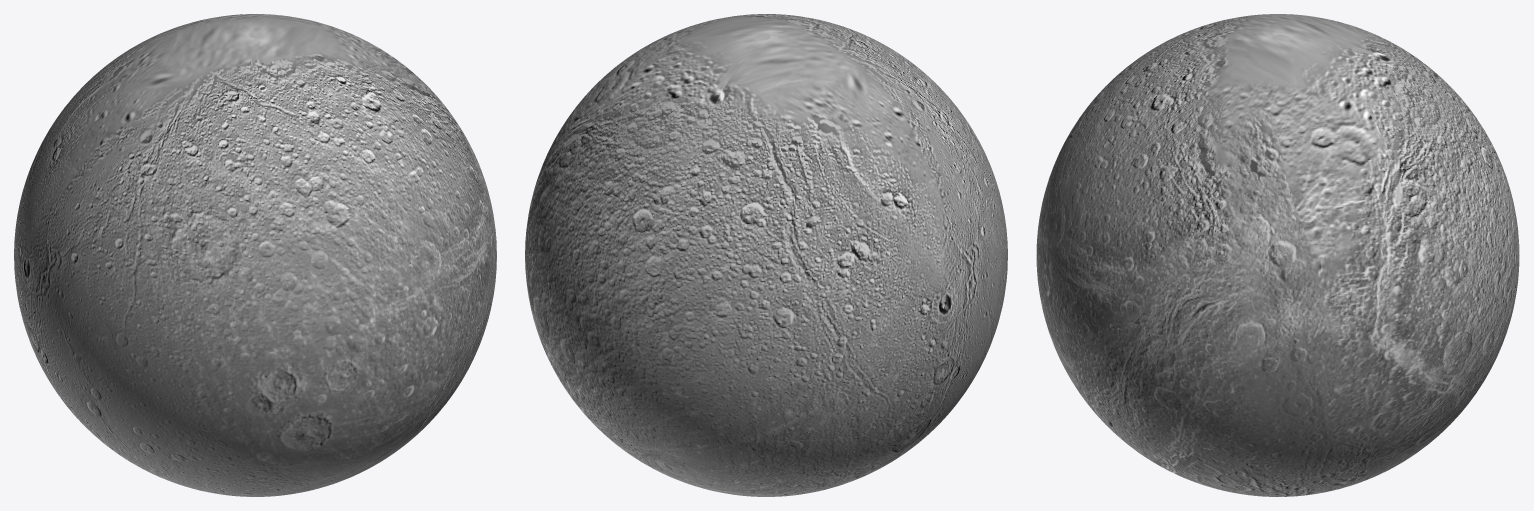
File: dione.obj
The picture shows the model from 3 angles, left to right: view 1: azimuth 30°, elevation 25°; view 2: azimuth 150°, elevation 25°; view 3: azimuth 270°, elevation 25°; orthographic projection.
Parts seen in each view (by area): view 1: earth_Sphere; view 2: earth_Sphere; view 3: earth_Sphere.
Part boxes in pixels (x1,y1,x2,y2): earth_Sphere: (14,14,496,496); earth_Sphere: (525,14,1007,496); earth_Sphere: (1036,14,1519,496).
Size of the model in its own units: 2 by 2 by 2.
Materials: 1 (1 with a texture image).
